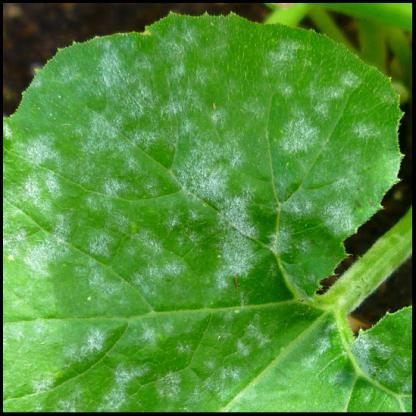Squash Powdery mildew leaf: (5, 5, 408, 408)
